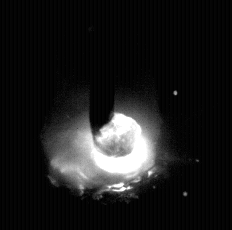arame: (90, 0, 116, 136)
poca: (42, 0, 166, 230)
